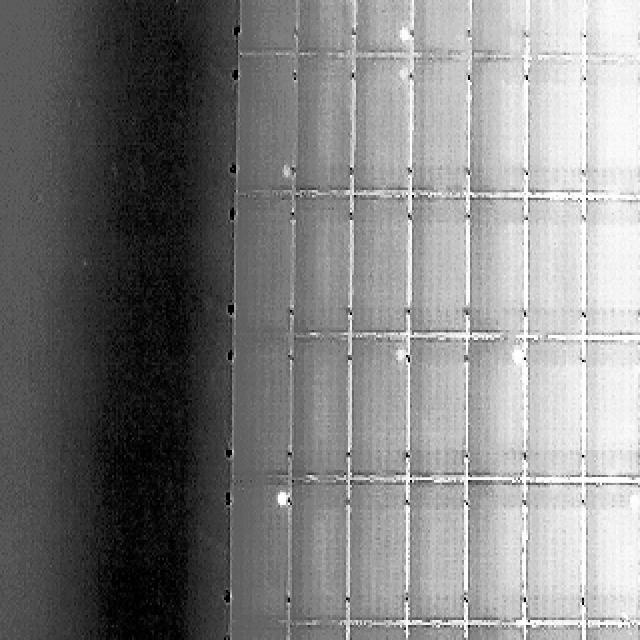Hotspots: (385, 343, 406, 369), (398, 21, 416, 47), (506, 342, 525, 365), (396, 64, 414, 88), (273, 488, 291, 510), (394, 345, 412, 367), (624, 485, 640, 507)
PV-modules: (285, 483, 348, 626), (287, 339, 349, 483), (288, 197, 349, 339), (352, 483, 412, 627), (233, 338, 292, 484), (230, 483, 290, 626), (354, 198, 414, 340), (407, 484, 467, 626), (526, 342, 586, 484), (462, 200, 523, 339), (466, 483, 526, 624), (408, 338, 467, 481), (235, 196, 294, 339), (408, 199, 468, 339), (581, 59, 640, 200), (527, 200, 586, 341), (467, 340, 526, 481), (580, 484, 638, 627), (353, 340, 411, 483), (410, 58, 469, 198), (526, 484, 584, 626), (355, 59, 414, 198), (293, 59, 352, 198), (469, 59, 528, 198), (581, 201, 639, 342), (580, 342, 638, 483), (238, 59, 297, 197), (528, 59, 586, 199), (407, 0, 472, 57), (468, 0, 529, 58), (582, 0, 640, 58), (526, 0, 586, 56), (296, 0, 356, 55), (239, 0, 298, 55), (351, 0, 412, 53), (284, 625, 346, 640), (350, 625, 410, 640), (228, 625, 288, 640), (406, 625, 466, 640), (460, 625, 520, 640), (580, 625, 638, 640), (526, 625, 584, 640), (638, 0, 640, 58)
